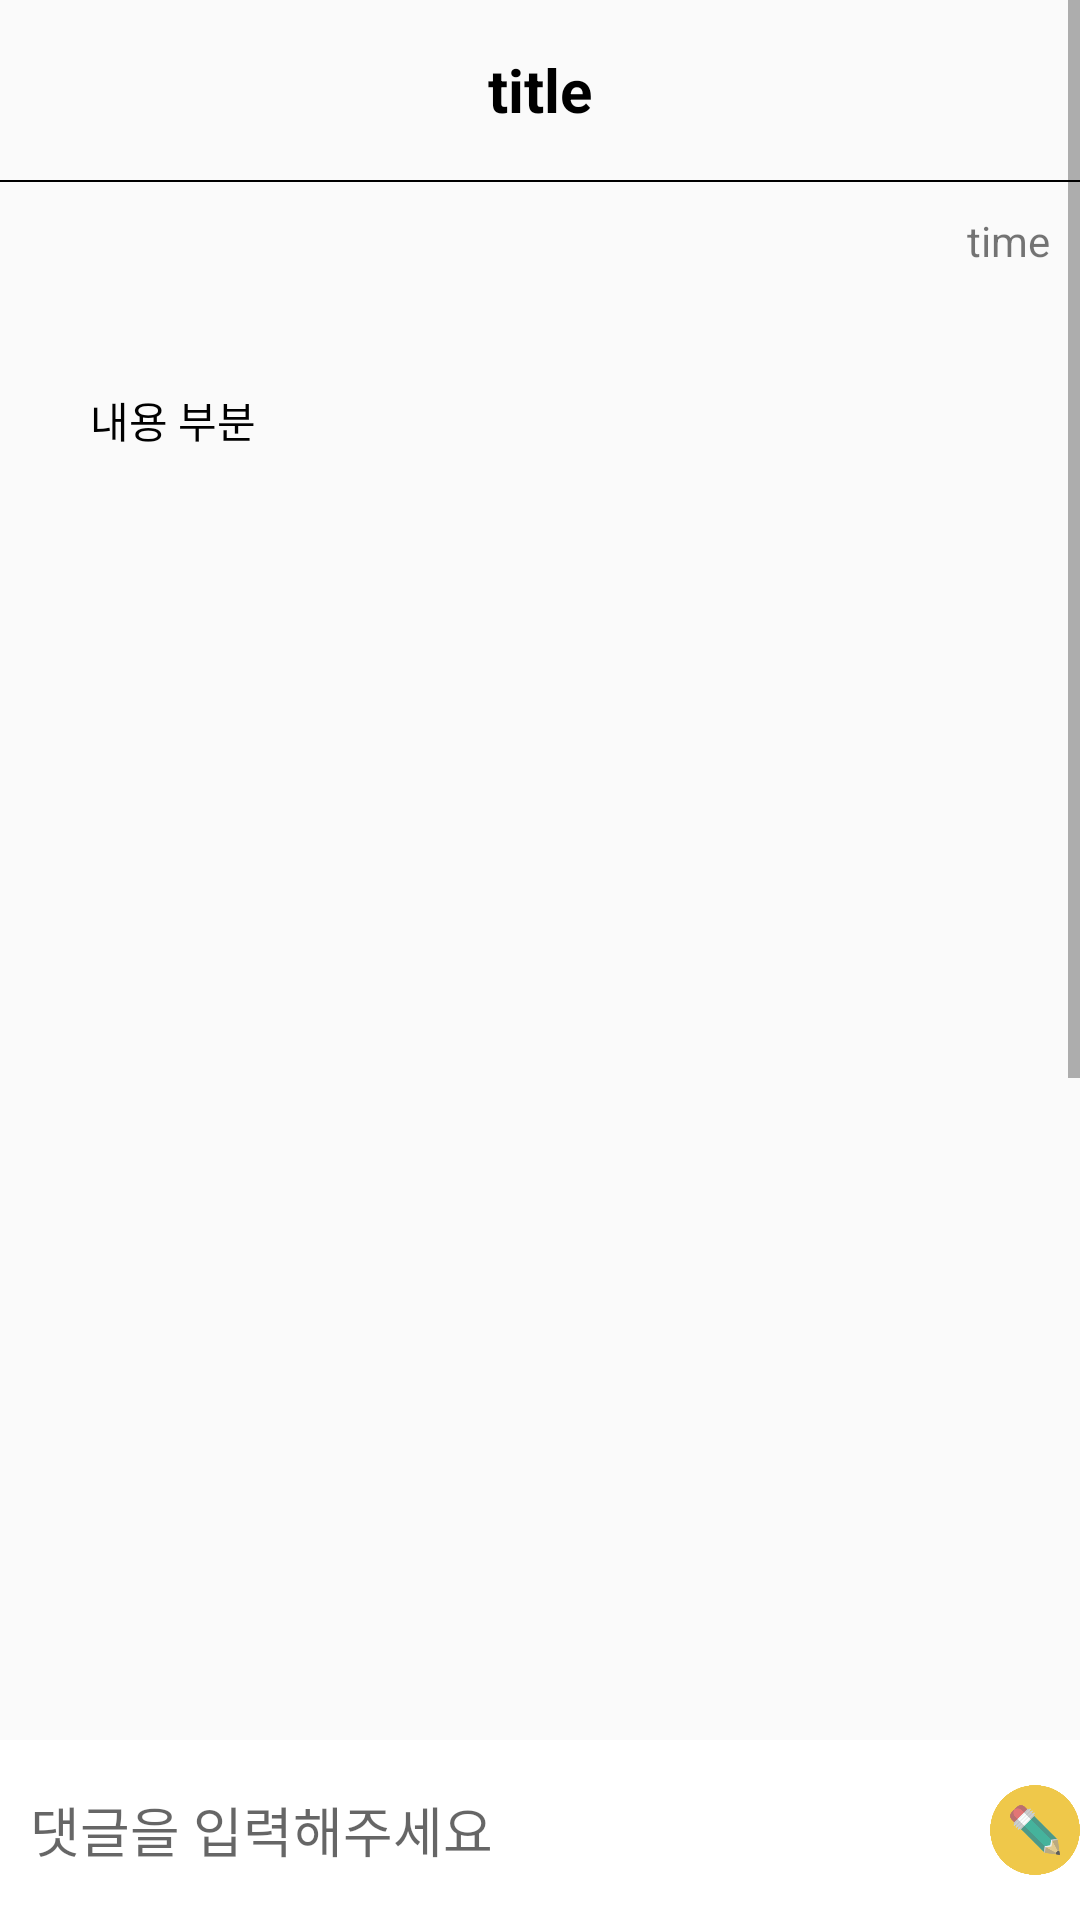

Icon click points for this 1080*1920 phone screenshot, format (x,y):
btnwrite: (1035,1830)
